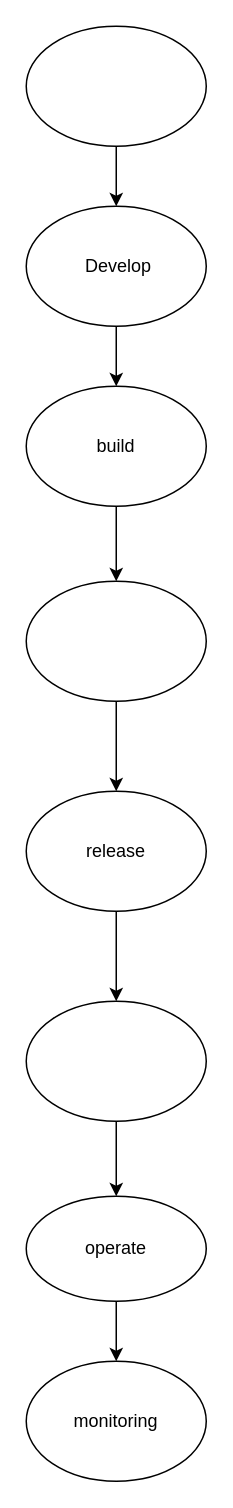
Image size: 233x1508. Some labels were removed from this diagram. Here are the shapes that lost their labels. From the top down, the box of each, then its label:
(25, 25, 206, 146): plan
(25, 580, 206, 701): test
(25, 1000, 206, 1121): deploy
